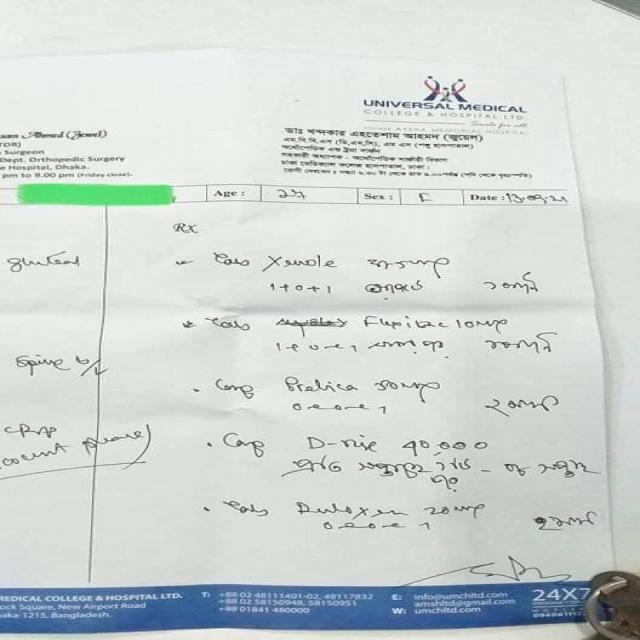D-Rise: (299, 431, 387, 455)
Duloxen: (282, 496, 408, 522)
Flexibac: (355, 312, 454, 333)
Prelica: (271, 372, 363, 396)
